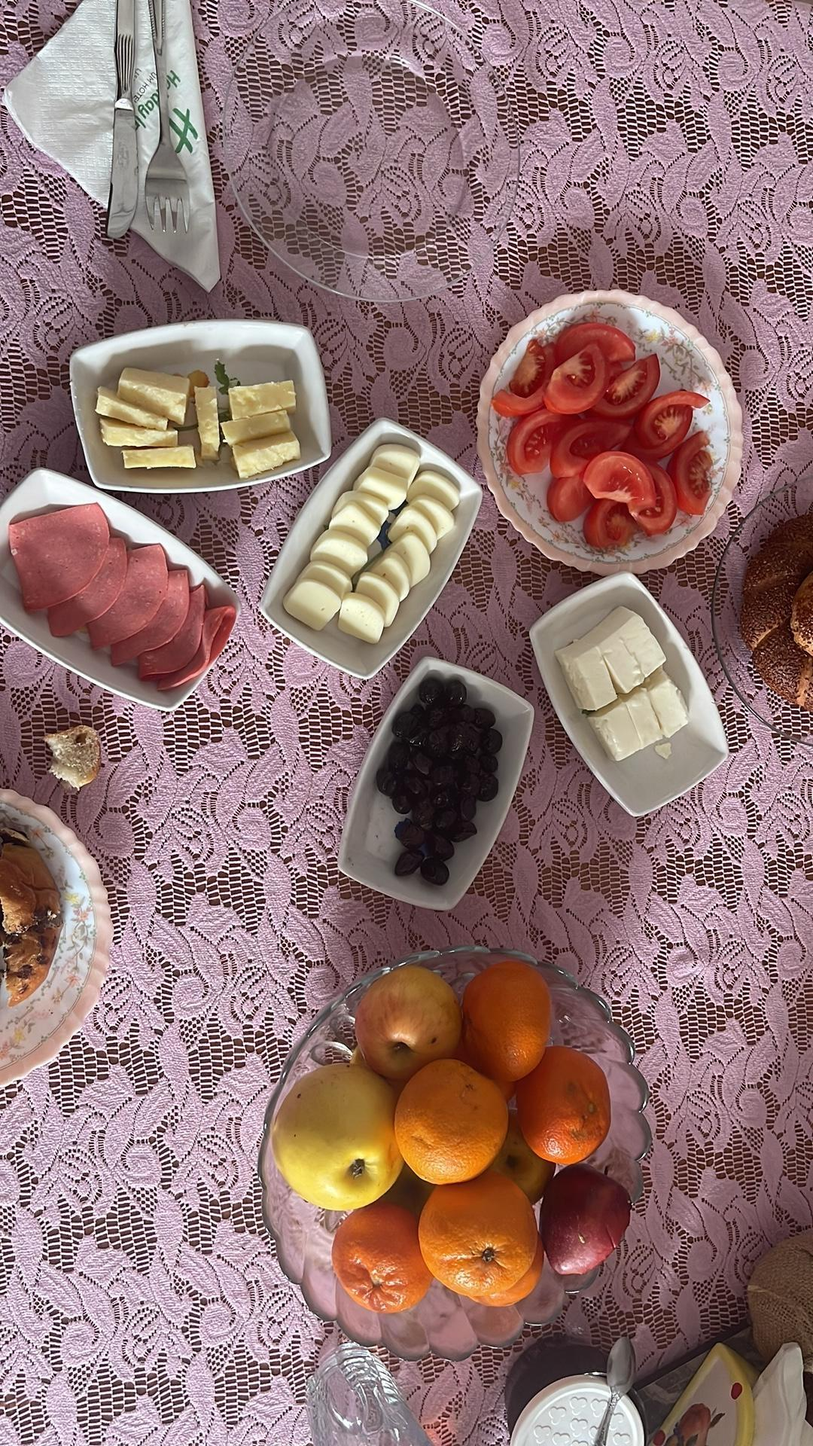apple: (274, 1059, 408, 1213), (353, 964, 461, 1078), (542, 1158, 630, 1278), (495, 1113, 545, 1191)
mandarin: (417, 1171, 538, 1296), (394, 1061, 507, 1184), (332, 1197, 430, 1312), (462, 962, 550, 1079), (521, 1046, 607, 1161)
tomato: (507, 409, 575, 477), (594, 353, 665, 415), (551, 423, 629, 477), (583, 447, 655, 504), (630, 458, 678, 542), (490, 343, 546, 410), (633, 392, 699, 448), (548, 342, 600, 410), (548, 325, 635, 360), (672, 431, 709, 512), (584, 497, 637, 549), (679, 434, 713, 513), (543, 474, 592, 523)
